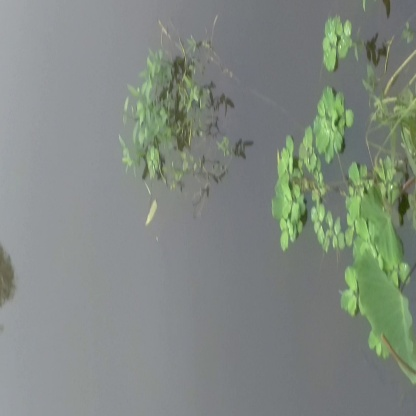grass: (109, 34, 250, 212)
